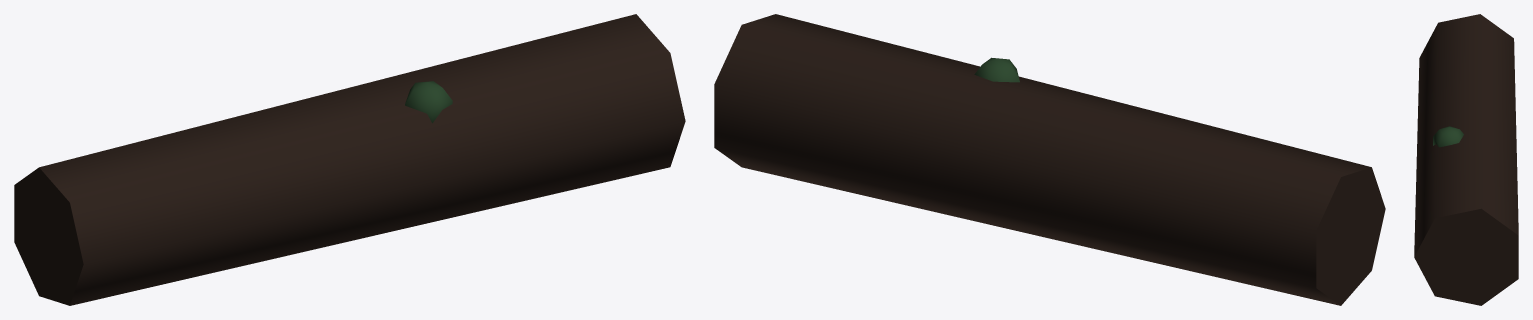
File: fallen_log.glb
The picture shows the model from 3 angles, left to right: view 1: azimuth 30°, elevation 25°; view 2: azimuth 150°, elevation 25°; view 3: azimuth 270°, elevation 25°; orthographic projection. The views are drawn at different scales.
Bounding box in the file's own units: 3.6 × 0.8495 × 0.7984.
